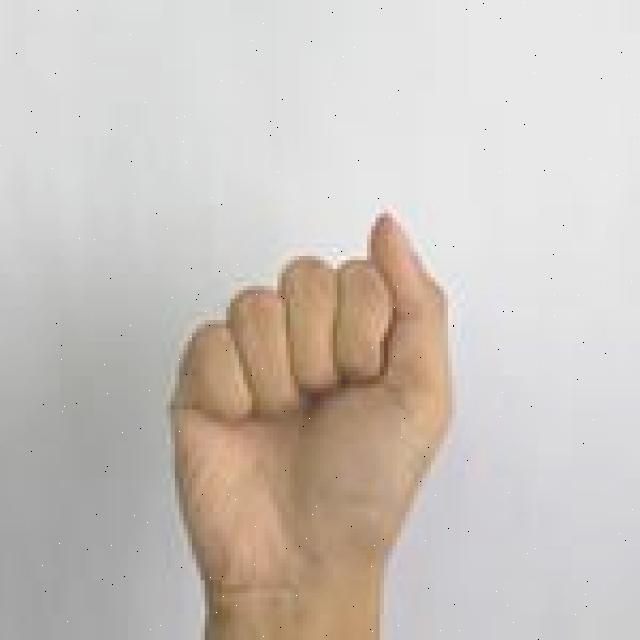A: (148, 200, 462, 640)
